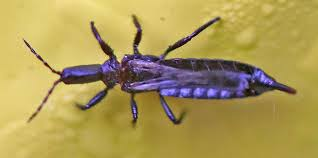Phlaeothripidae: (20, 15, 299, 124)
